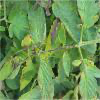Tomato leaf bacterial spot: (52, 0, 96, 52), (35, 53, 58, 99), (26, 5, 48, 47), (78, 55, 99, 99), (8, 10, 35, 43), (18, 61, 36, 93), (0, 54, 15, 82), (61, 50, 71, 78), (57, 24, 66, 47), (71, 59, 83, 67)
